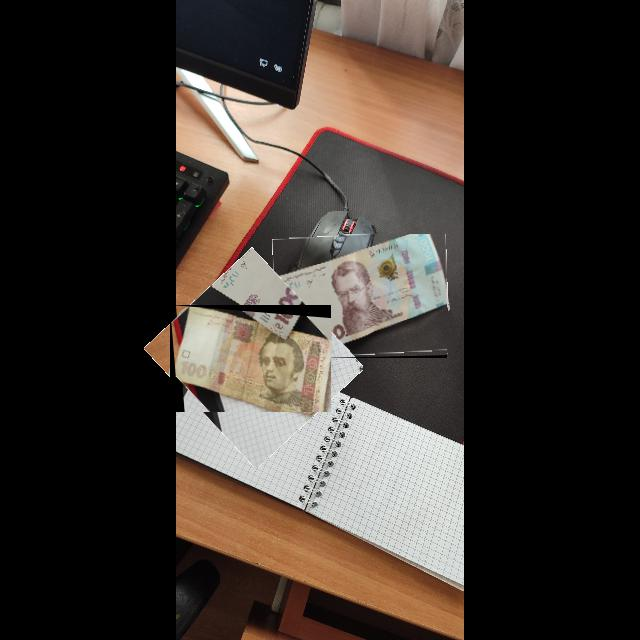1000uah: (274, 234, 448, 358)
100uah: (175, 307, 332, 413)
